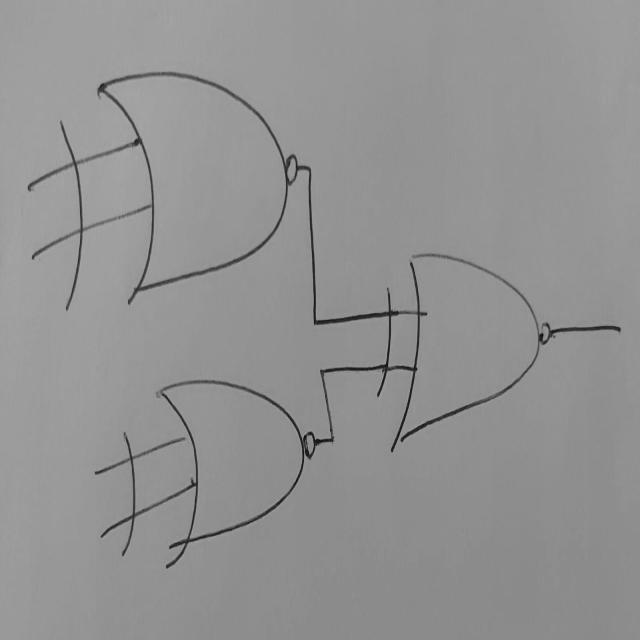XNOR: (35, 63, 304, 324), (92, 363, 329, 574), (372, 221, 574, 462)
